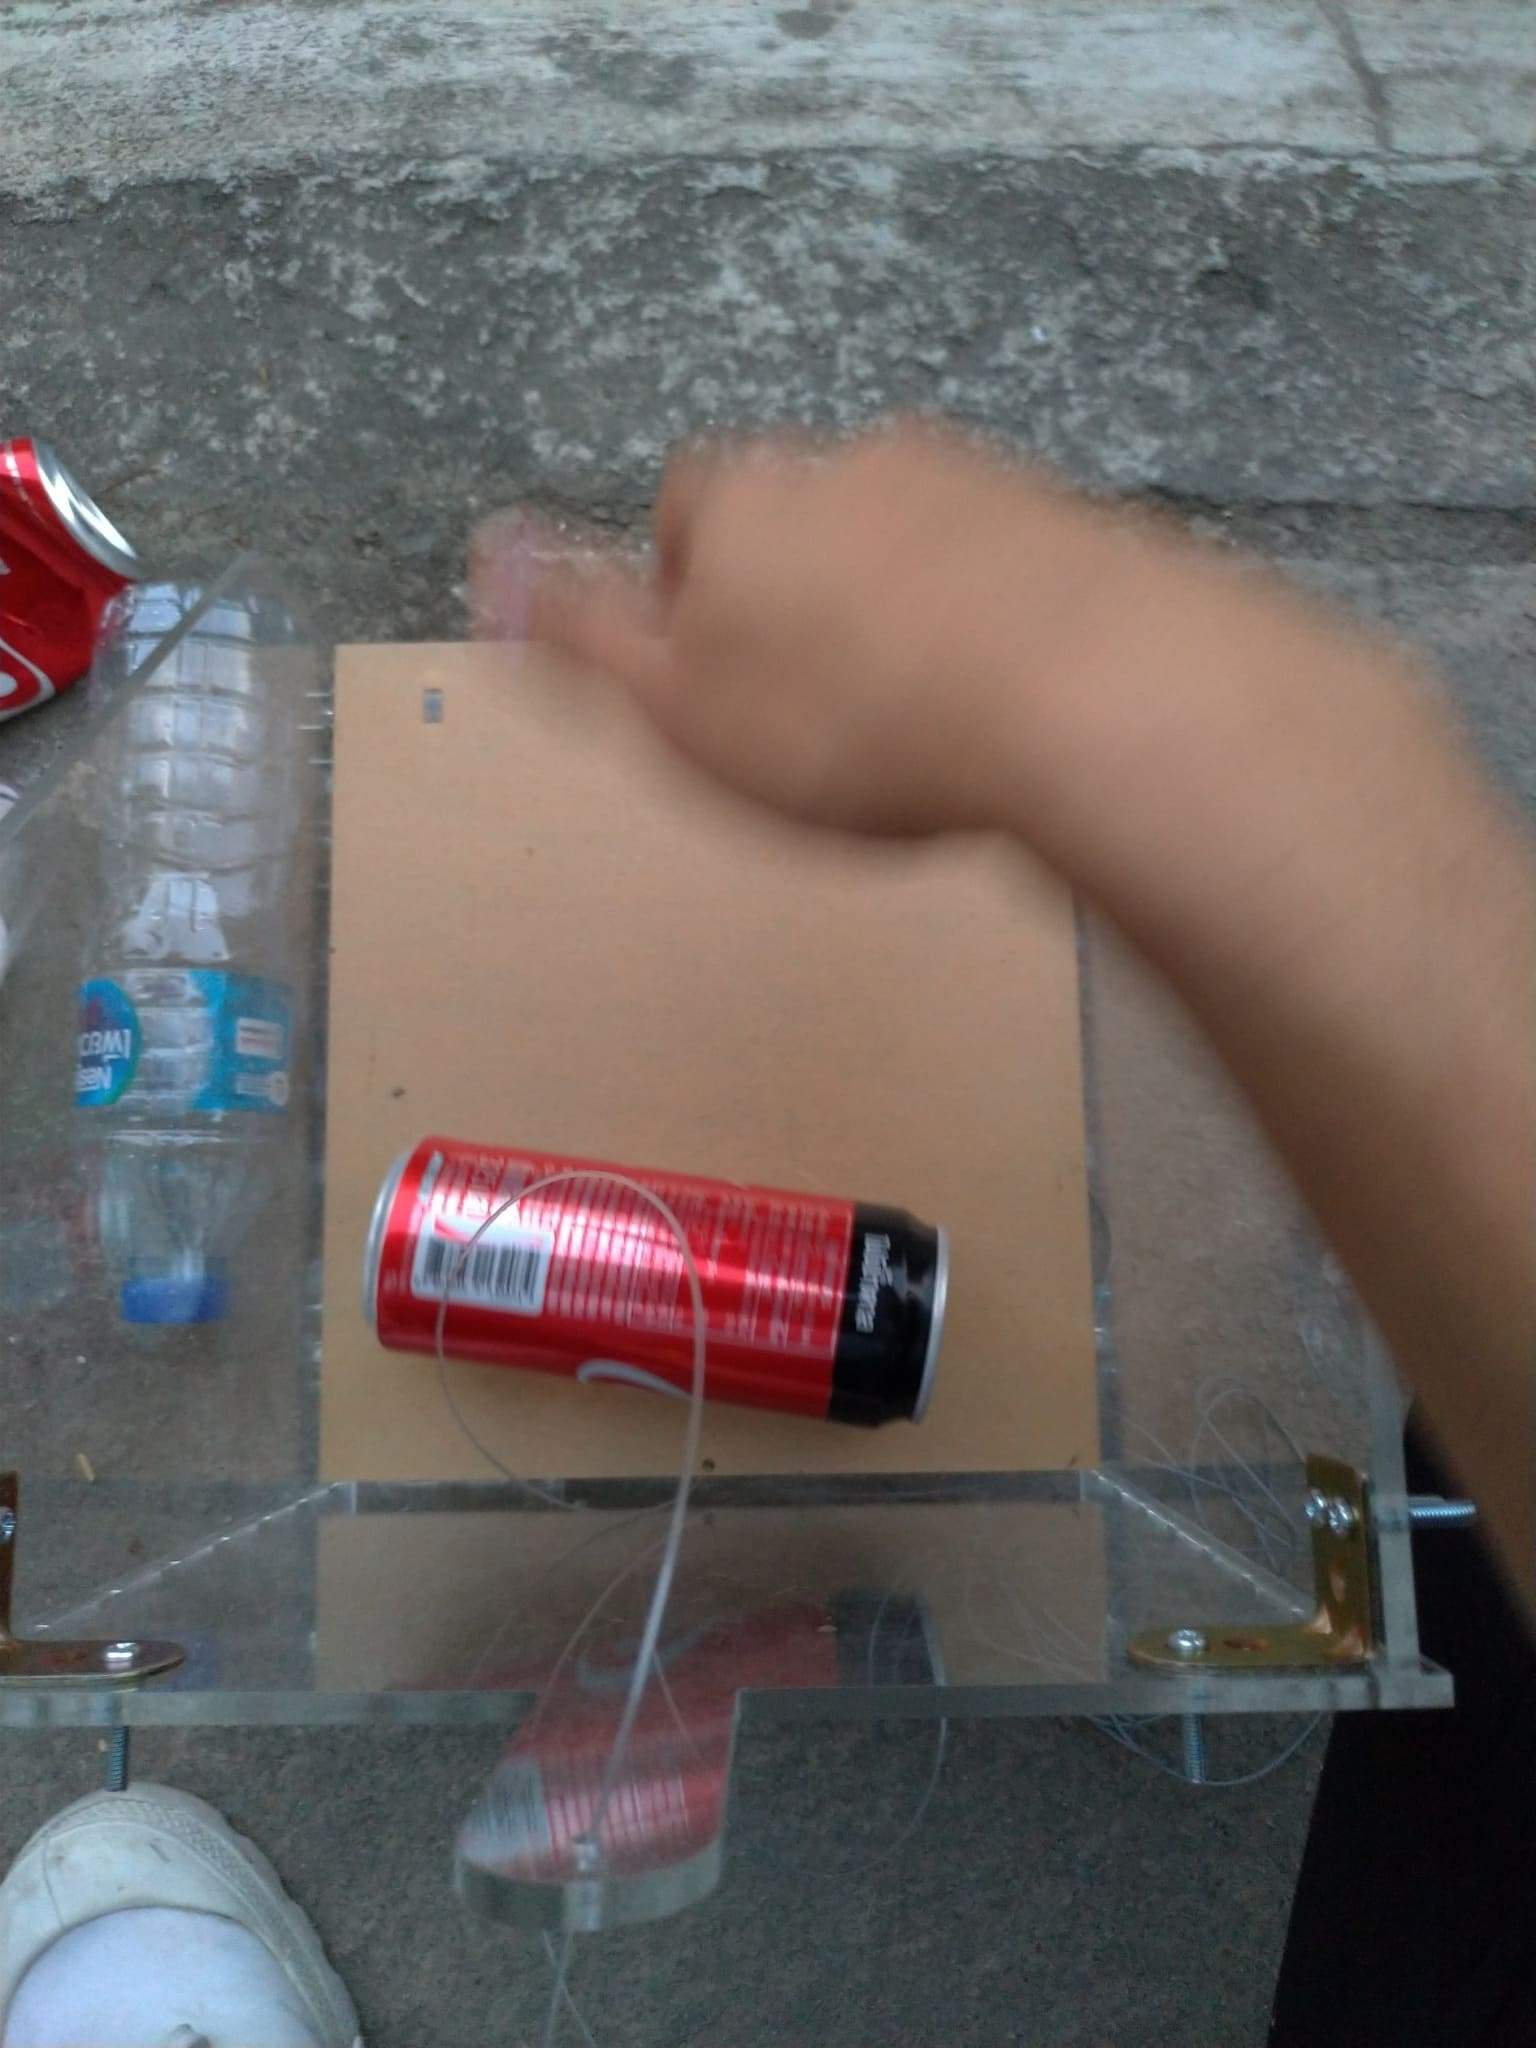AlCan: (357, 1135, 954, 1430), (2, 439, 150, 716)
PlasticBottle: (74, 585, 313, 1334)
